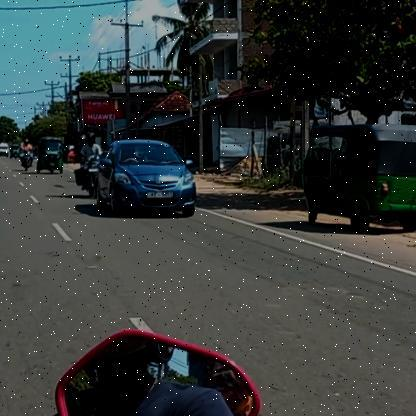motorcycle: (74, 155, 103, 201)
